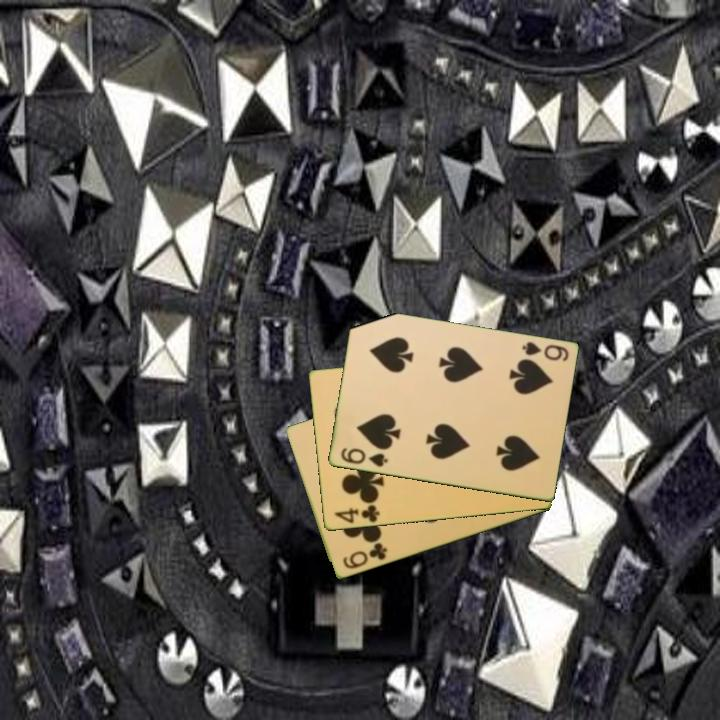4c: (330, 501, 382, 526)
6c: (339, 539, 390, 572)
6s: (337, 444, 390, 470), (518, 338, 571, 364)
